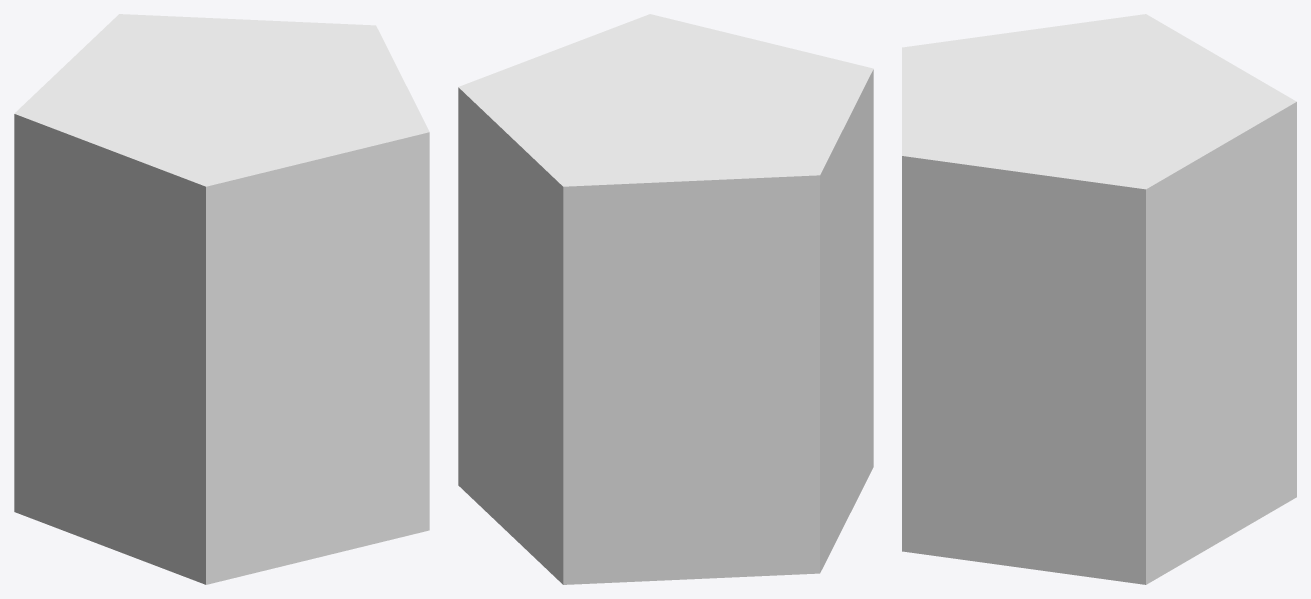
The model's file is expPentagon.obj.
The picture shows the model from 3 angles, left to right: view 1: azimuth 30°, elevation 25°; view 2: azimuth 150°, elevation 25°; view 3: azimuth 270°, elevation 25°; orthographic projection.
Visible parts, largest first — view 1: 円柱; view 2: 円柱; view 3: 円柱.
Part boxes in pixels (x1,y1,x2,y2): 円柱: (14, 14, 429, 584); 円柱: (458, 14, 873, 584); 円柱: (902, 14, 1296, 584).
Bounding box in the file's own units: 1.9 × 2 × 1.81.
Materials: 1 (1 with a texture image).
